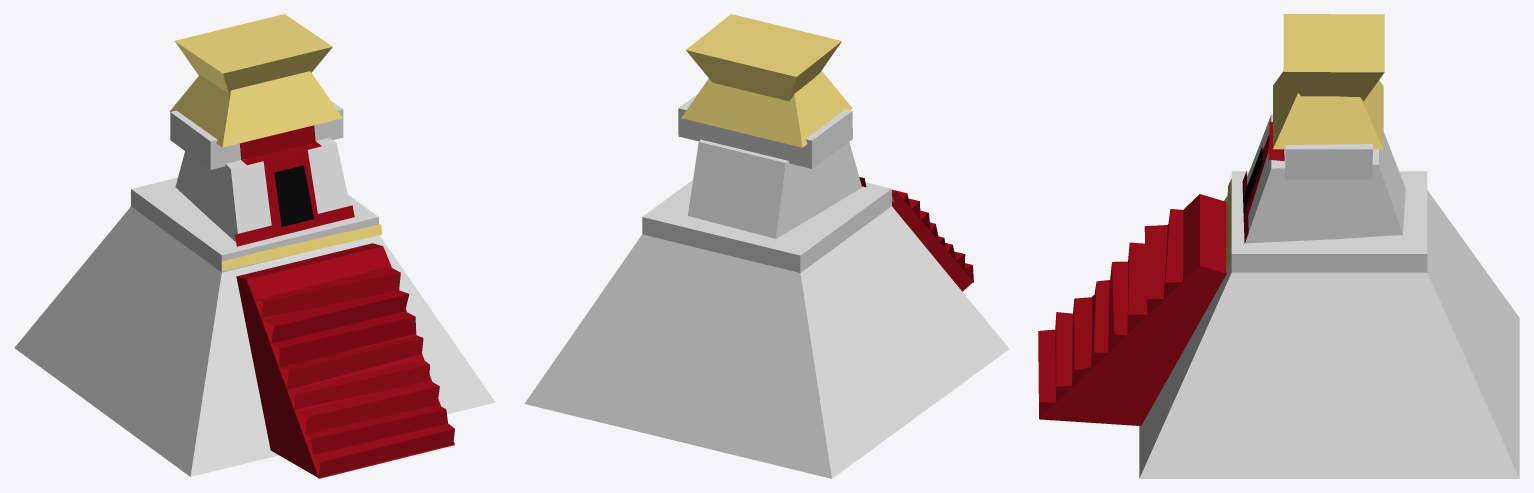
The model's file is teocalli.glb.
3 views of the same model, side by side, from view 1: azimuth 30°, elevation 25°; view 2: azimuth 150°, elevation 25°; view 3: azimuth 270°, elevation 25° (orthographic). The views are drawn at different scales.
Visible parts, largest first — view 1: Cube, Cube.006, Cube.004, Cube.005, Cube.003, Cube.001, Cube.002, Plane.004, Plane, Plane.001, Plane.003, Plane.002 (+1 smaller); view 2: Cube, Cube.003, Cube.001, Cube.005, Cube.004, Cube.002, Cube.006; view 3: Cube, Cube.006, Cube.003, Cube.001, Cube.005, Cube.004, Cube.002.
Part boxes in pixels (box(x1,y1,x2,y2)): Cube: box(14, 206, 495, 476); Cube.006: box(236, 243, 454, 478); Cube.004: box(169, 71, 342, 147); Cube.005: box(175, 14, 332, 92); Cube.003: box(175, 138, 349, 241); Cube.001: box(131, 177, 378, 272); Cube.002: box(170, 100, 343, 169); Plane.004: box(221, 224, 381, 270); Plane: box(274, 165, 313, 226); Plane.001: box(263, 150, 317, 229); Plane.003: box(234, 205, 354, 246); Plane.002: box(240, 125, 315, 160); Cube: box(524, 206, 1009, 478); Cube.003: box(688, 139, 861, 238); Cube.001: box(642, 180, 891, 272); Cube.005: box(686, 14, 841, 101); Cube.004: box(681, 71, 852, 147); Cube.002: box(678, 94, 852, 168); Cube.006: box(892, 189, 973, 291); Cube: box(1139, 190, 1519, 478); Cube.006: box(1038, 194, 1226, 425); Cube.003: box(1245, 114, 1405, 243); Cube.001: box(1231, 171, 1427, 272); Cube.005: box(1283, 14, 1384, 101); Cube.004: box(1273, 71, 1383, 149); Cube.002: box(1285, 144, 1372, 179).
Bounding box in the file's own units: 16.89 × 17.46 × 21.37.
